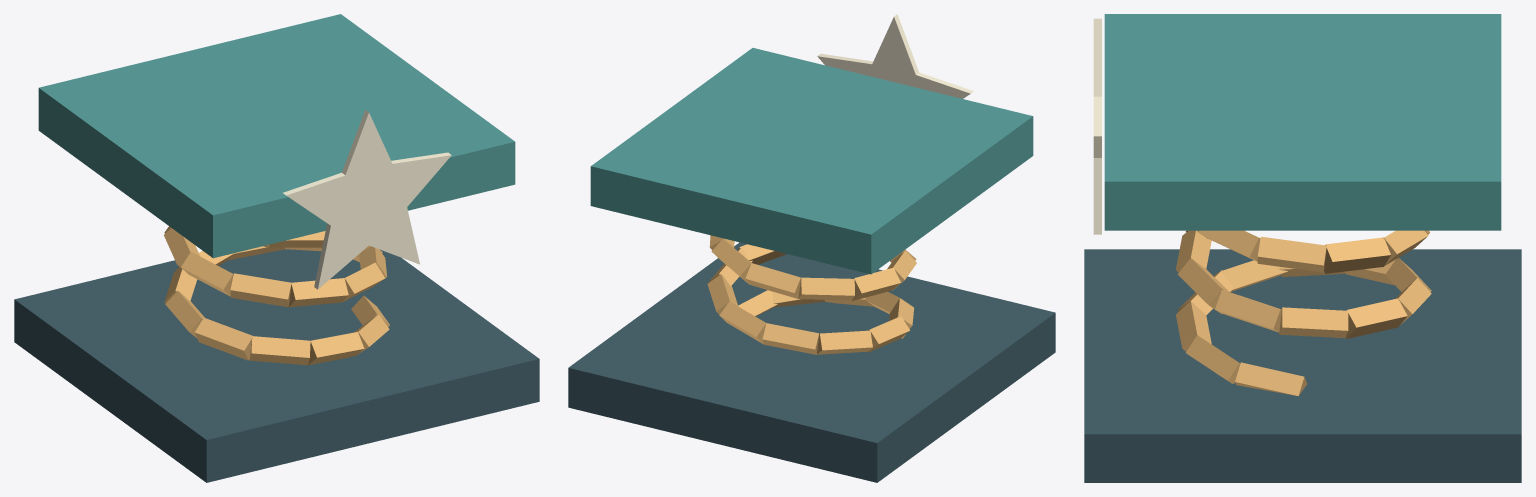
File: spring-pad.glb
3 views of the same model, side by side, from view 1: azimuth 30°, elevation 25°; view 2: azimuth 150°, elevation 25°; view 3: azimuth 270°, elevation 25° (orthographic). The views are drawn at different scales.
Parts seen in each view (by area): view 1: launch-pad, base, coil; view 2: launch-pad, base, coil; view 3: launch-pad, base, coil.
Boxes of the visible parts, <box> form: launch-pad: <box>38,14,515,289</box>; base: <box>14,249,539,482</box>; coil: <box>164,226,389,365</box>; launch-pad: <box>590,14,1033,274</box>; base: <box>568,242,1055,482</box>; coil: <box>707,235,916,354</box>; launch-pad: <box>1093,14,1501,234</box>; base: <box>1084,249,1521,482</box>; coil: <box>1175,230,1431,396</box>.
Bounding box in the file's own units: 1.3 × 1.22 × 1.3.
